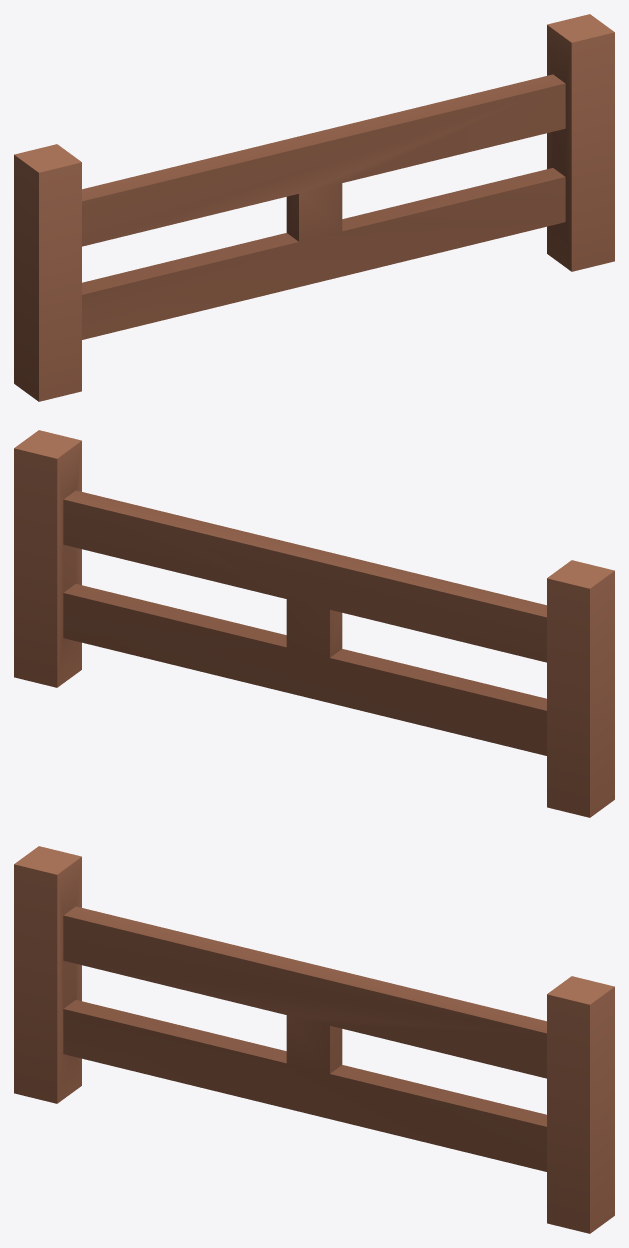
Rendered from fw_fence_oak.glb.
3 renders of one model, top to bottom at view 1: azimuth 30°, elevation 25°; view 2: azimuth 150°, elevation 25°; view 3: azimuth 330°, elevation 25°, orthographic.
Parts seen in each view (by area): view 1: body; view 2: body; view 3: body.
Boxes of the visible parts, box(x1,y1,x2,y2) form: body: box(14, 14, 614, 401); body: box(14, 430, 614, 817); body: box(14, 846, 614, 1233).
Size of the model in its own units: 2.6 by 0.988 by 0.195.
